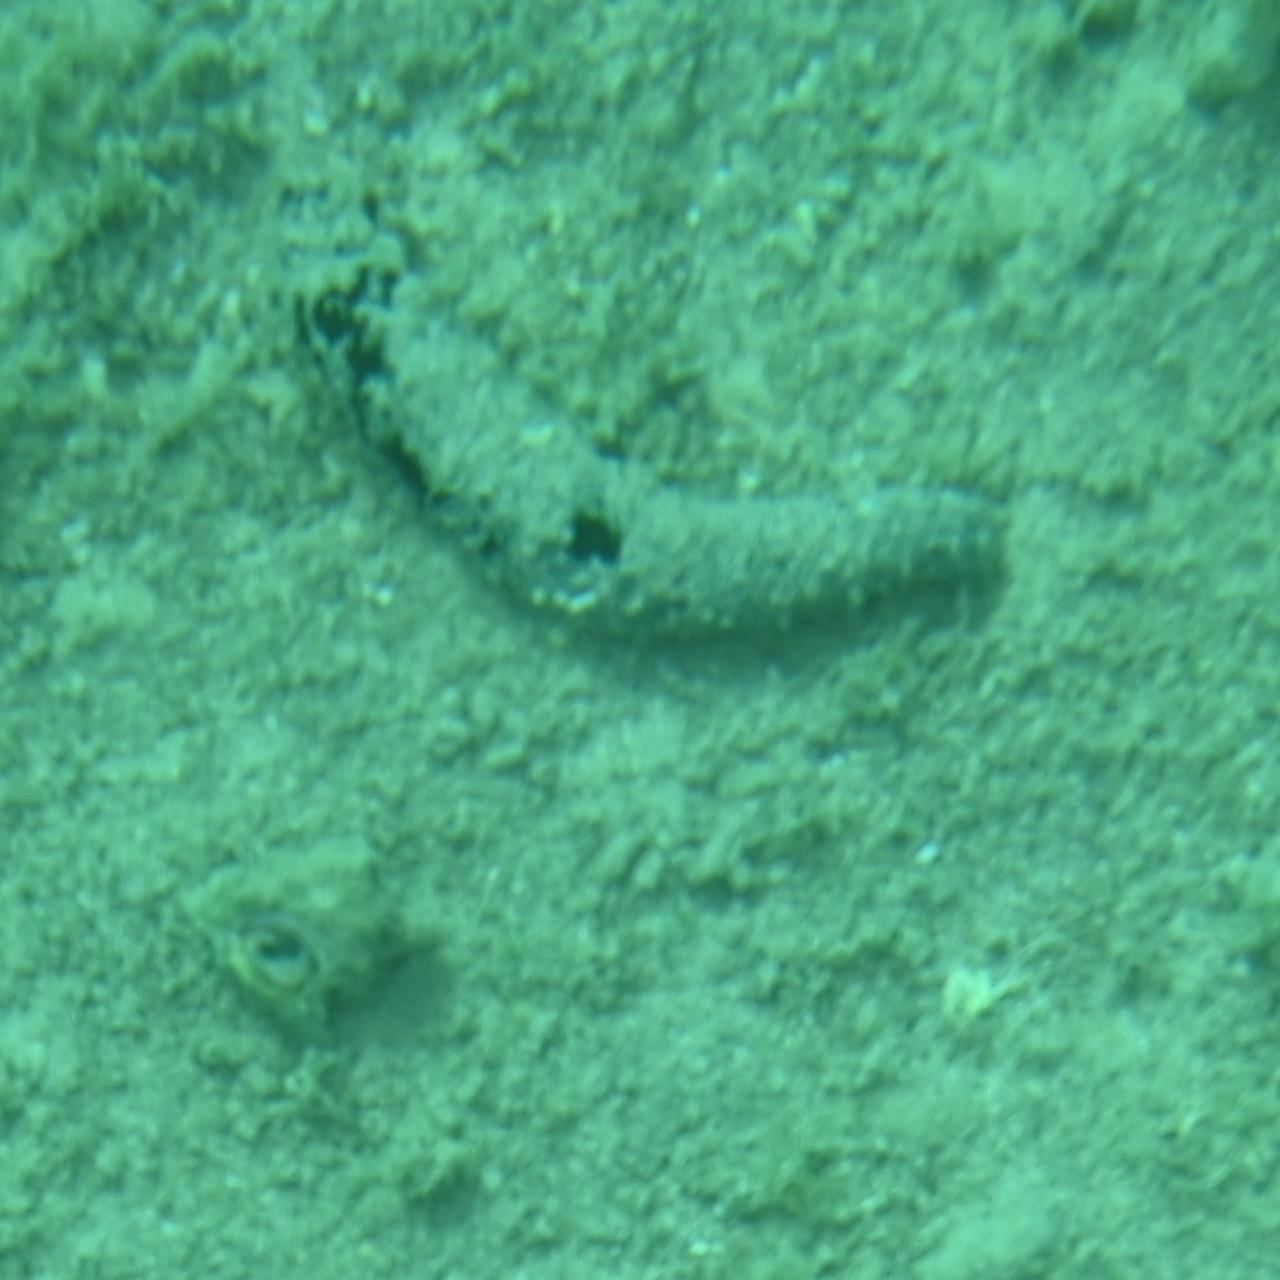Holothuria tubulosa: (274, 151, 1006, 616)
